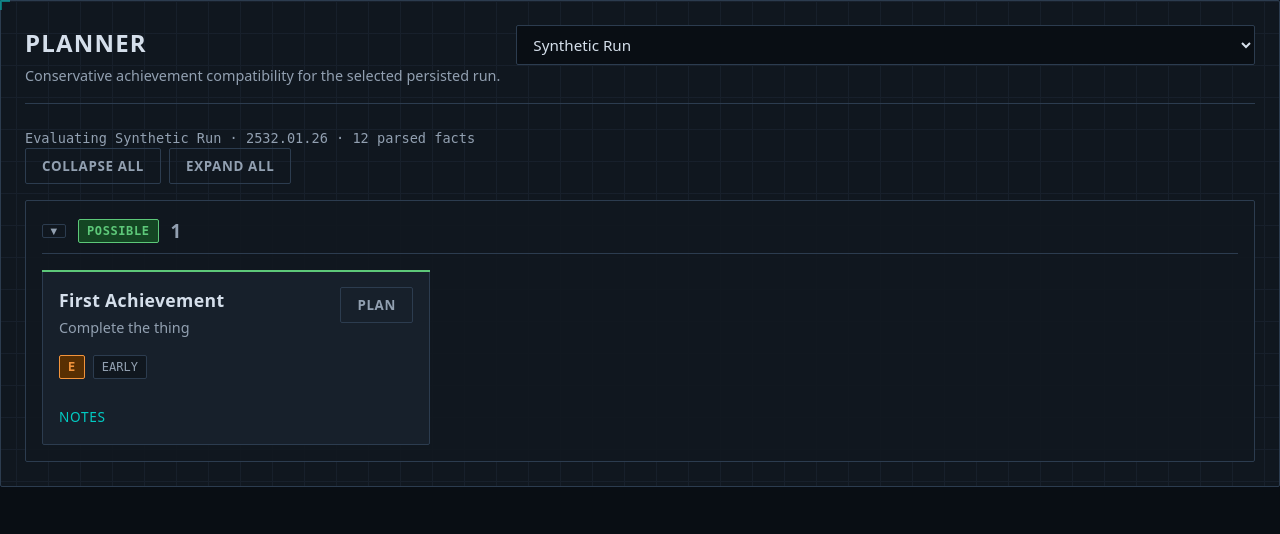
Test case: surfaces planner toggle failures
Expected: the text "First Achievement" is shown, [59,287,224,314]
Click the button "Plan" at (377, 305), box [340,287,413,323]
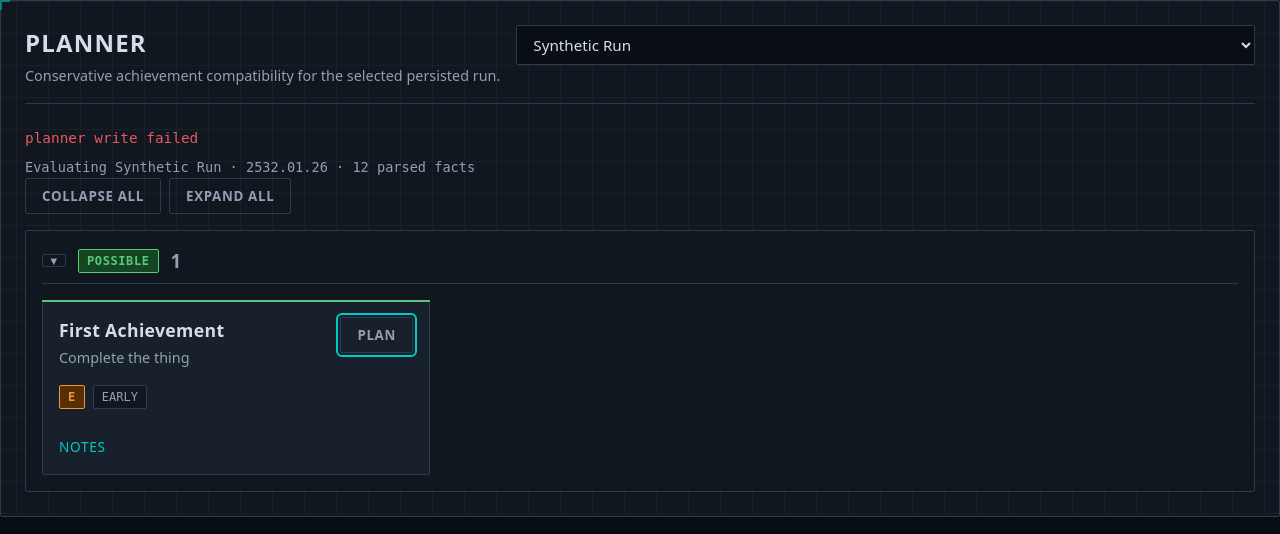
Result: the message reads "planner write failed" at [25,130,198,146]
